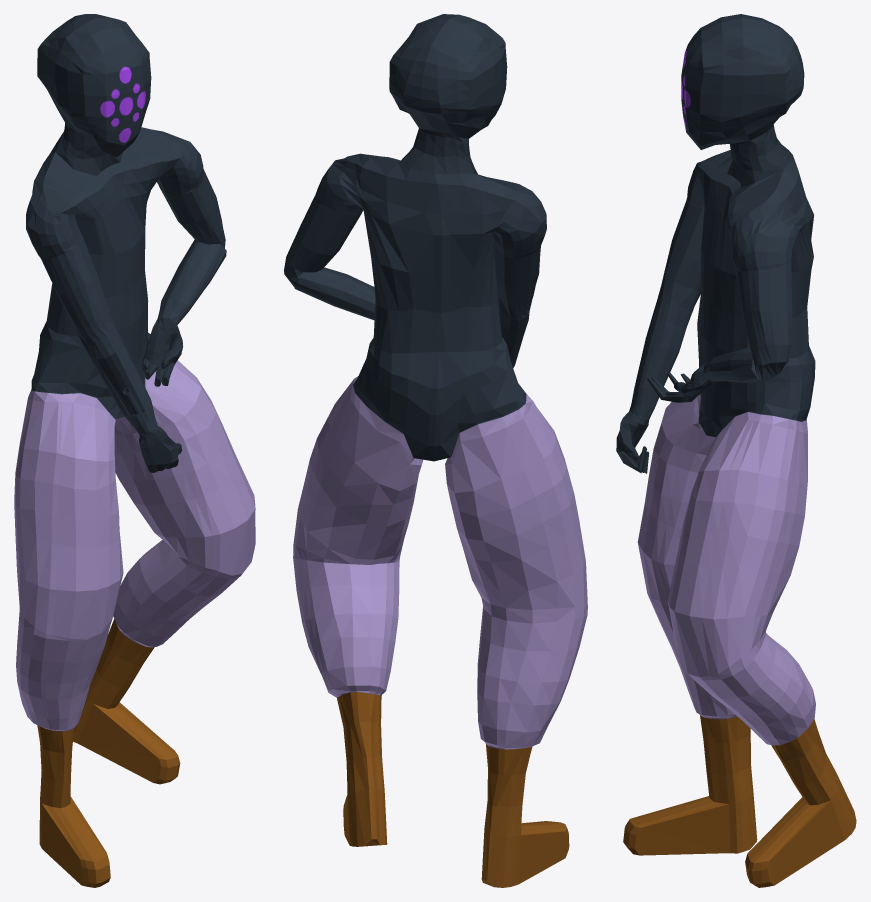
Rendered from Oracle_WR_000023.obj.
The picture shows the model from 3 angles, left to right: view 1: azimuth 30°, elevation 25°; view 2: azimuth 150°, elevation 25°; view 3: azimuth 270°, elevation 25°; orthographic projection. The views are drawn at different scales.
Visible parts, largest first — view 1: Cube; view 2: Cube; view 3: Cube.
Part boxes in pixels (x1,y1,x2,y2): Cube: [14, 14, 255, 887]; Cube: [284, 14, 587, 887]; Cube: [616, 14, 856, 887].
Size of the model in its own units: 1.25 by 3.9 by 0.9899.
